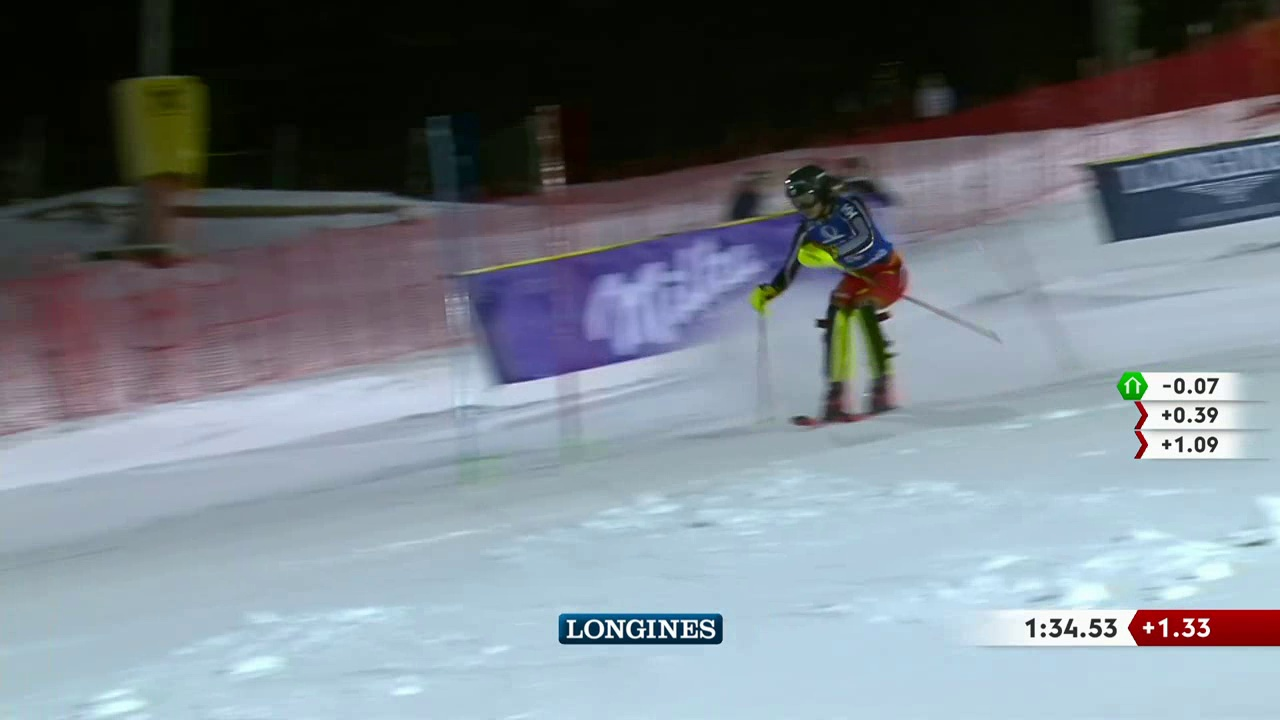longines: (1087, 136, 1279, 231), (552, 612, 734, 647)
milka: (566, 229, 788, 372)
